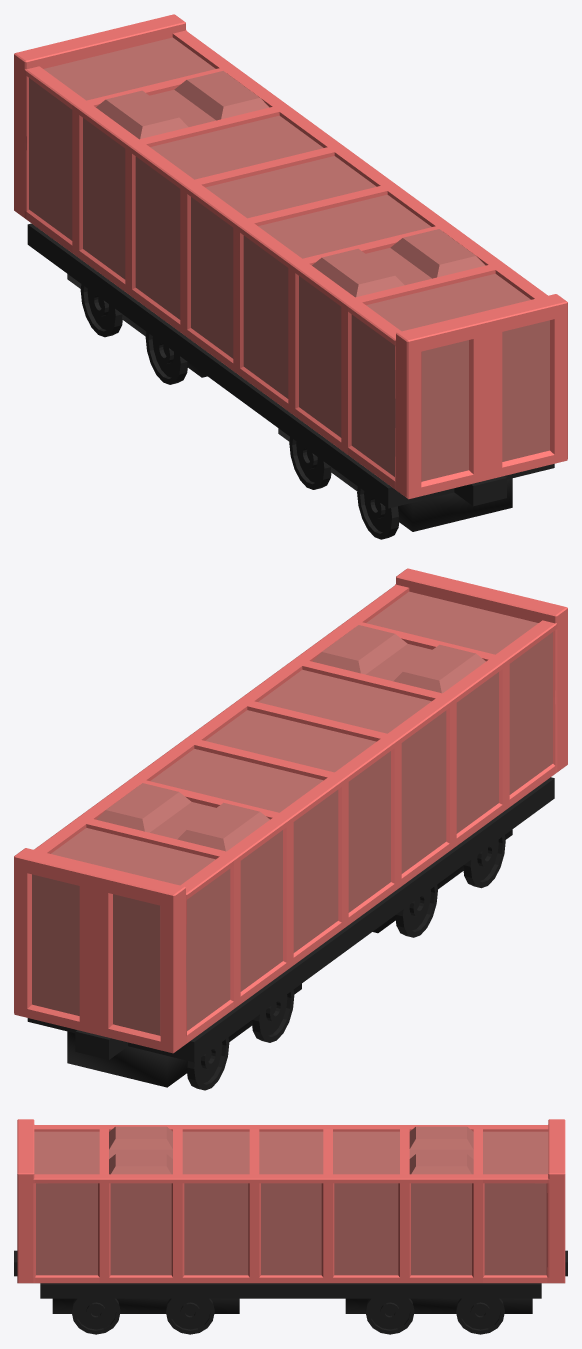
Rendered from cabin_03.fbx.
The picture shows the model from 3 angles, top to bottom: view 1: azimuth 30°, elevation 25°; view 2: azimuth 150°, elevation 25°; view 3: azimuth 270°, elevation 25°; orthographic projection. The views are drawn at different scales.
Parts seen in each view (by area): view 1: cabin_03.001; view 2: cabin_03.001; view 3: cabin_03.001.
Part boxes in pixels (x1=…): cabin_03.001: x1=14, y1=14, x2=567, y2=539; cabin_03.001: x1=14, y1=568, x2=567, y2=1090; cabin_03.001: x1=14, y1=1119, x2=567, y2=1334.
Size of the model in its own units: 192 by 268 by 795.
